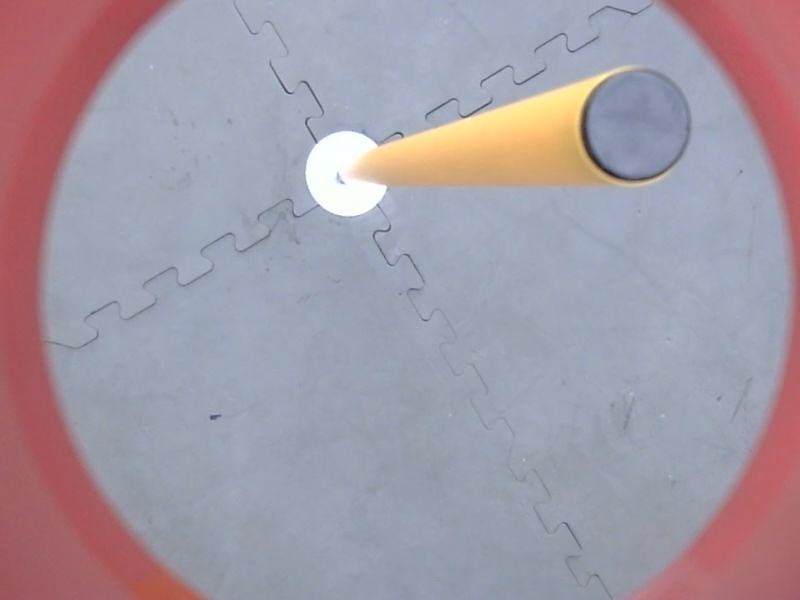tip: (568, 59, 701, 193)
